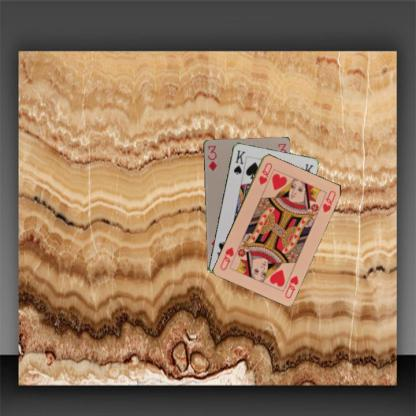3d: (205, 143, 218, 172)
Ks: (231, 147, 246, 176)
Qh: (256, 160, 273, 186), (282, 273, 299, 299)
